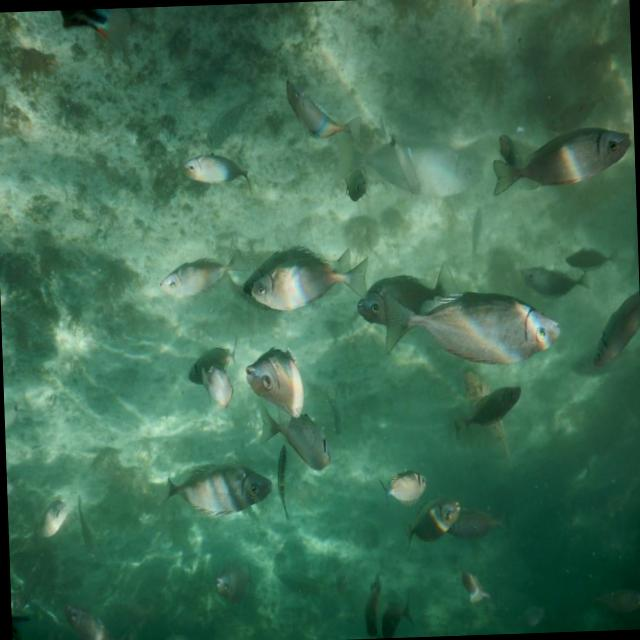Sokar Baligi: (374, 270, 575, 372), (483, 118, 636, 222), (246, 247, 379, 324), (156, 452, 278, 524)
